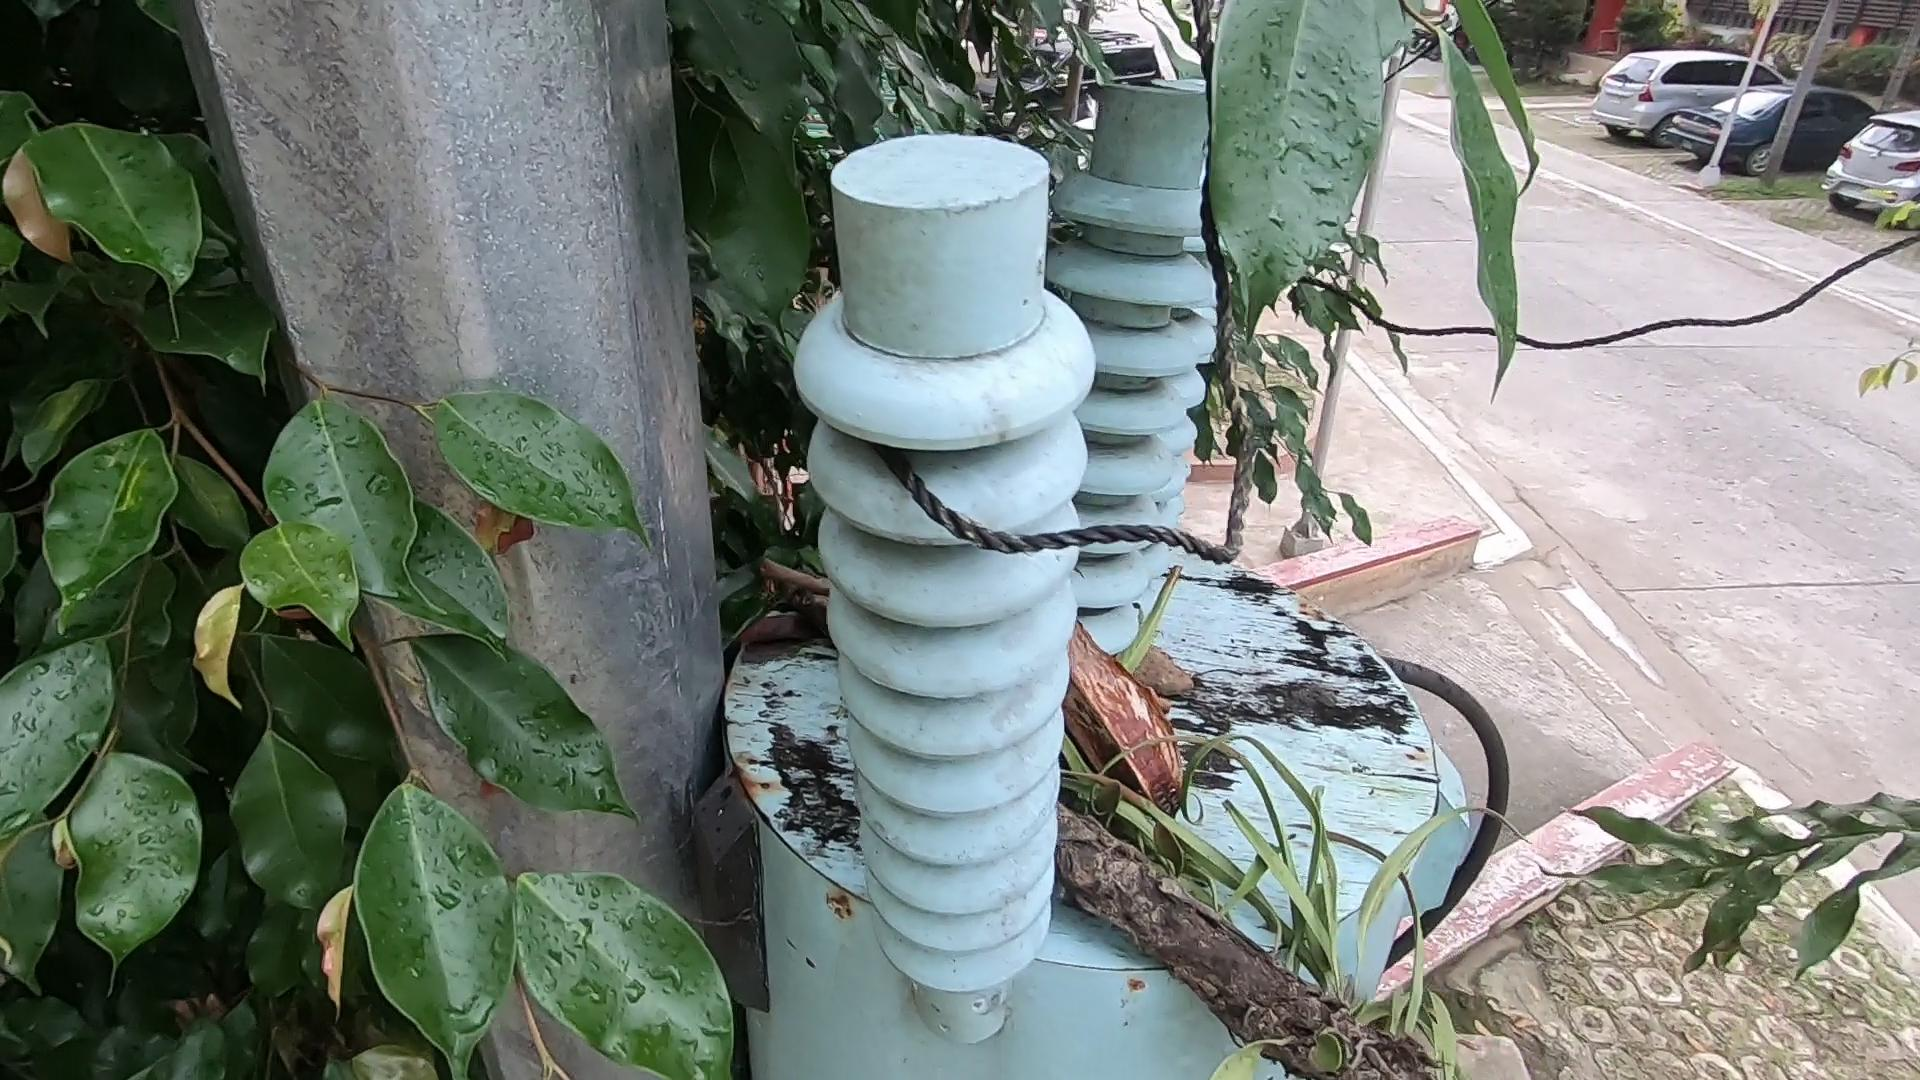branch with leaves: (1025, 553, 1600, 1080)
leaf: (712, 593, 841, 649)
mahogany fruit: (1021, 568, 1153, 843), (1131, 628, 1224, 705)
tree branch: (746, 545, 839, 603)
